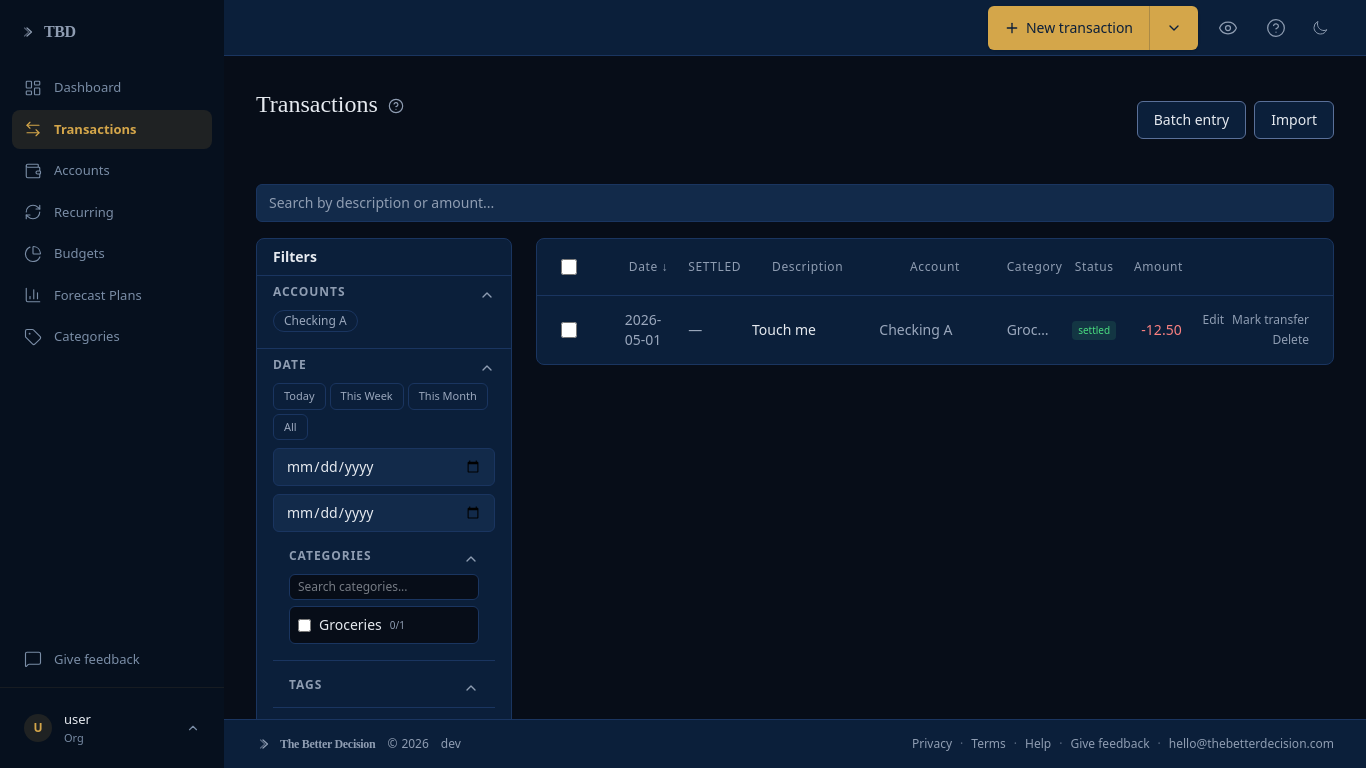
Test case: TransactionsPage - edit row layout (Punch-list Item 7) › desktop edit form Save/Cancel meet the 44px touch-target floor
Click the button with aria-label "Edit:".
click(1213, 320)  # box [1203,312,1224,328]
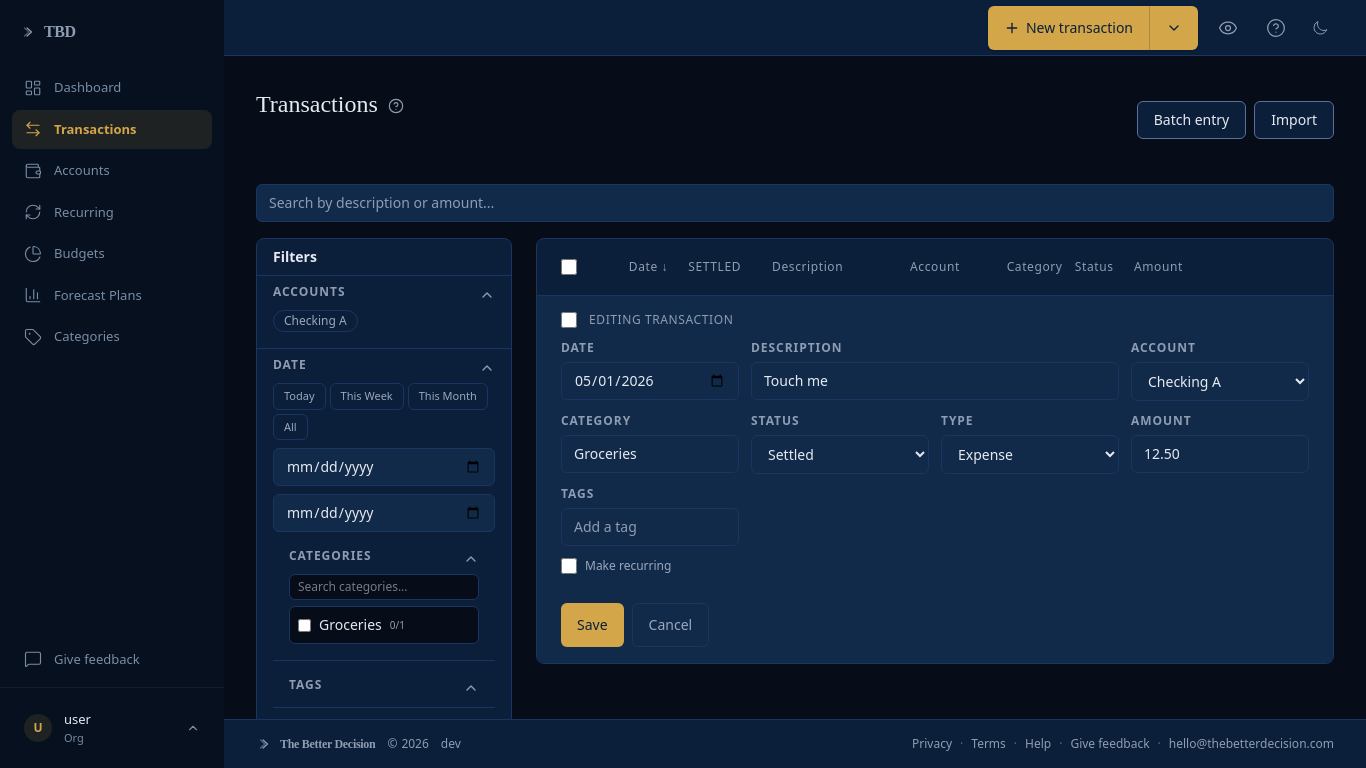
Now the button "Save" is shown, box [561,603,624,647]
Now the button "Cancel" is shown, box [632,603,709,647]
